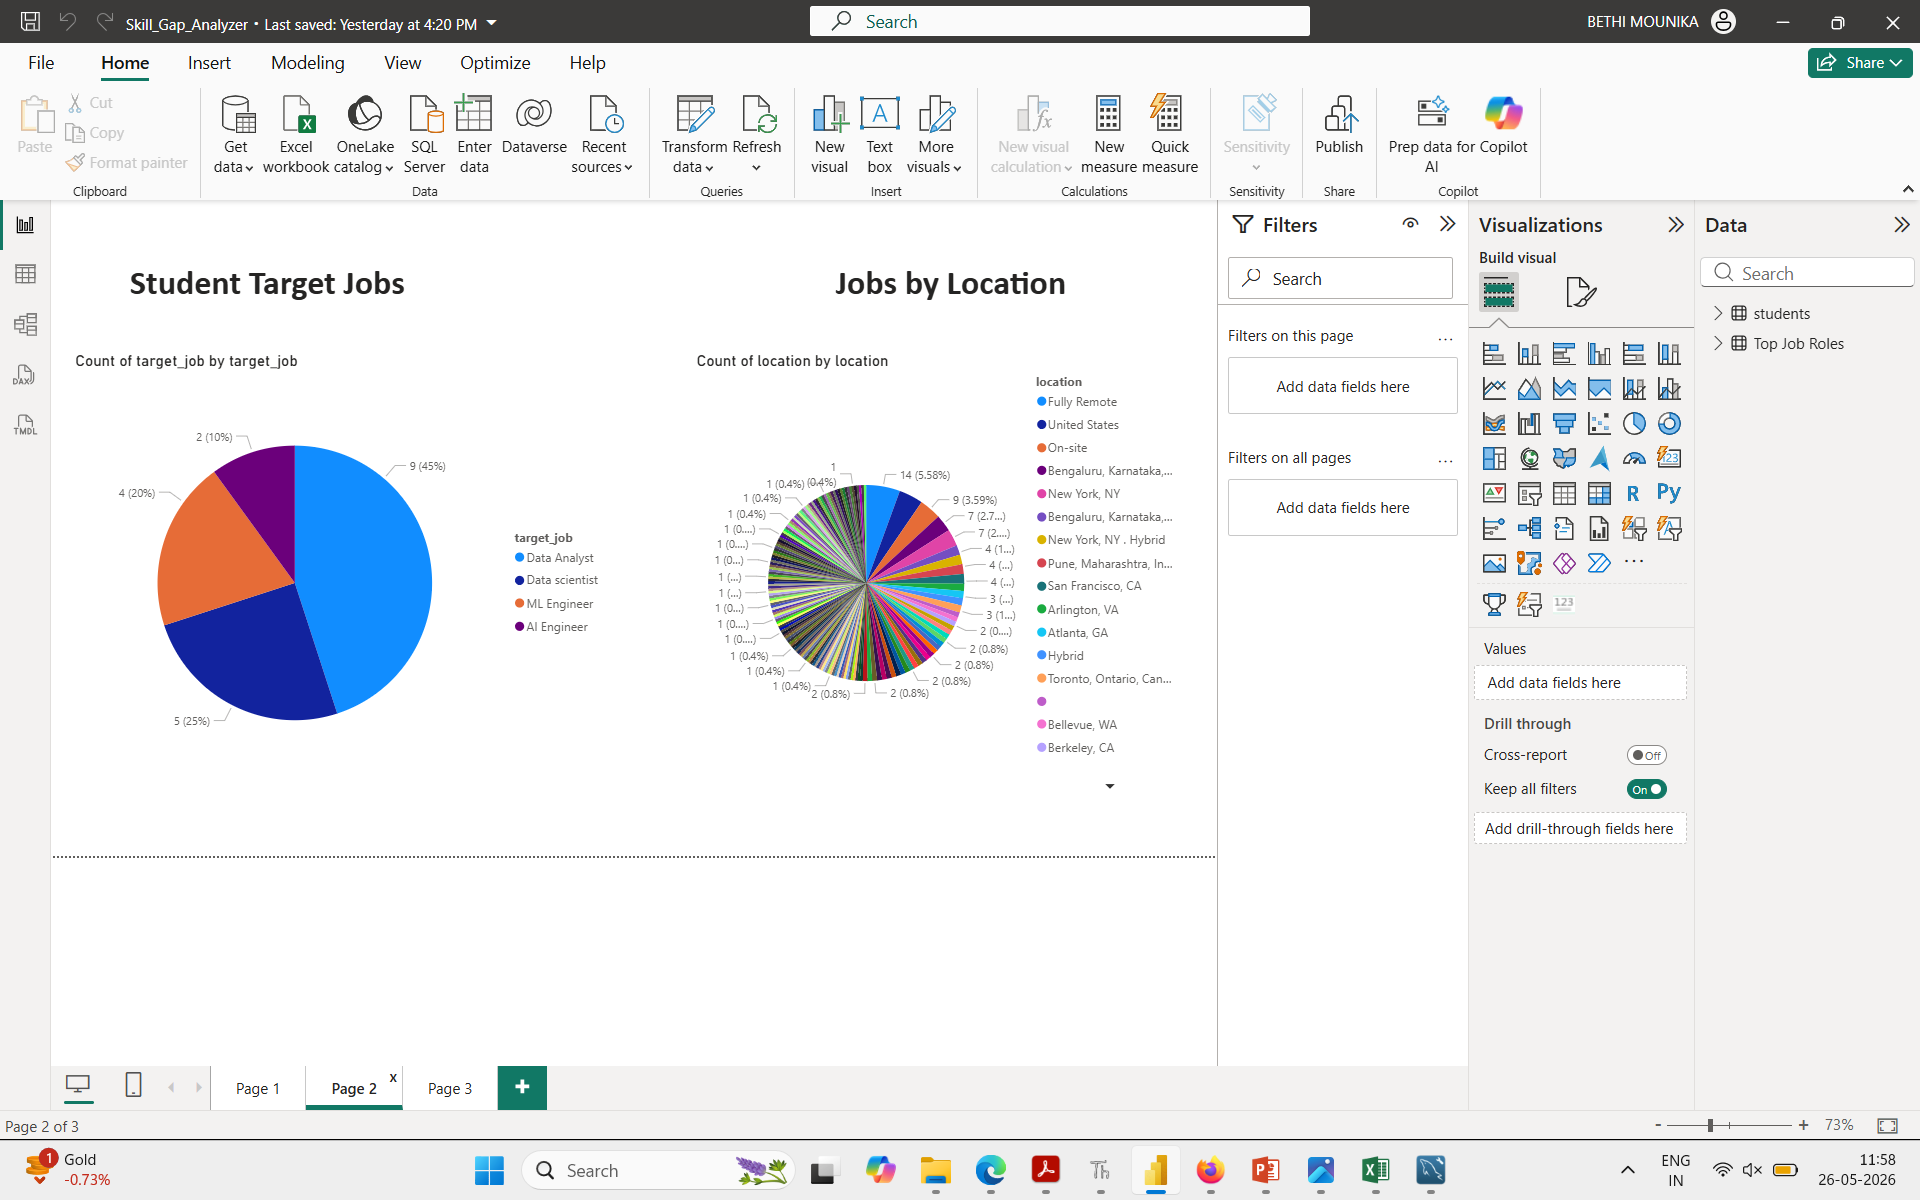

What the dashboard file says about the page in this screenshot:
{"tool":"powerbi","page":{"name":"Page 2","canvas":[1280,720],"ordinal":1},"visuals":[{"type":"pieChart","fields":{"Category":["students.target_job"],"Y":["CountNonNull(students.target_job)"]},"box":[22,166,592.8,489.9],"z":0},{"type":"pieChart","fields":{"Category":["Top Job Roles.location"],"Y":["CountNonNull(Top Job Roles.location)"]},"box":[704.2,166.2,542.3,490.1],"z":1000},{"type":"textbox","box":[22,63.1,430.9,74.1],"z":2000},{"type":"textbox","box":[756.1,63.1,463.8,59],"z":3000}]}

Visuals, with their boxes on the page's 1280x720 design canvas (x1, y1, x2, y2). These are canvas units, not pixel positions in the 1920x1200 screenshot, which may show the page scaled, cropped or inside an application window:
pieChart - students.target_job x CountNonNull(students.target_job): <bbox>22, 166, 615, 656</bbox>
pieChart - Top Job Roles.location x CountNonNull(Top Job Roles.location): <bbox>704, 166, 1246, 656</bbox>
textbox: <bbox>22, 63, 453, 137</bbox>
textbox: <bbox>756, 63, 1220, 122</bbox>
